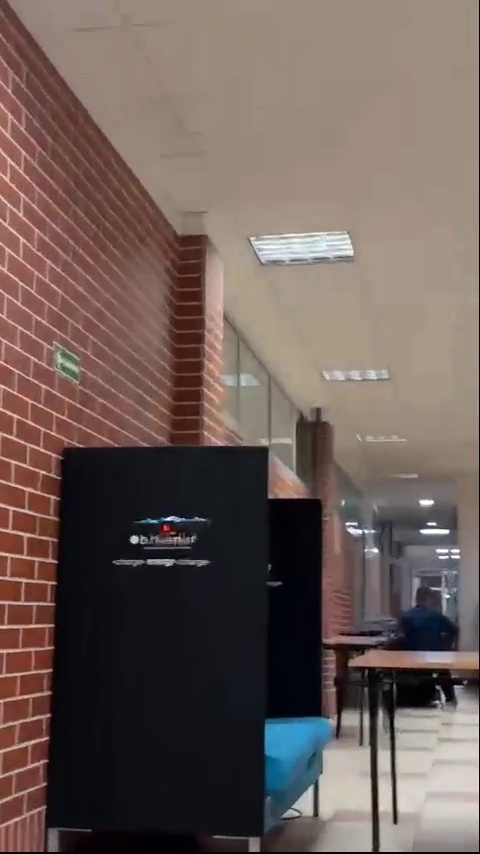drone: (136, 514, 205, 534)
no vest: (395, 587, 457, 651)
